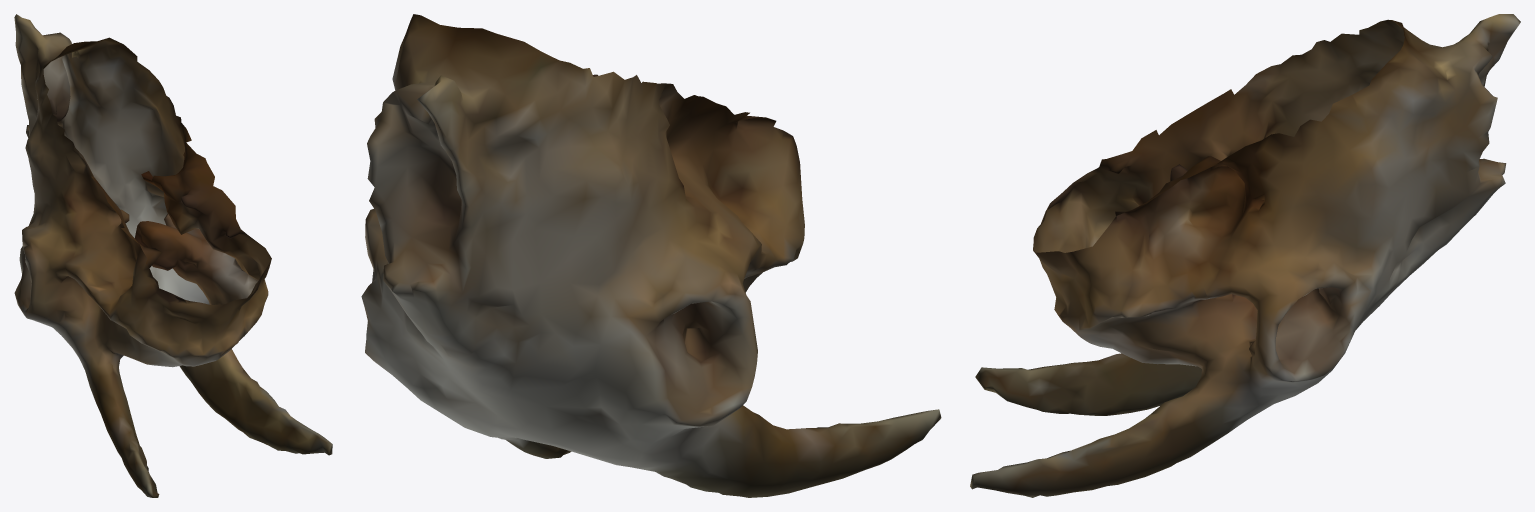
The model's file is goat_lp2.obj.
The picture shows the model from 3 angles, left to right: view 1: azimuth 30°, elevation 25°; view 2: azimuth 150°, elevation 25°; view 3: azimuth 270°, elevation 25°; orthographic projection. The views are drawn at different scales.
Size of the model in its own units: 1.95 by 2.98 by 3.47.
